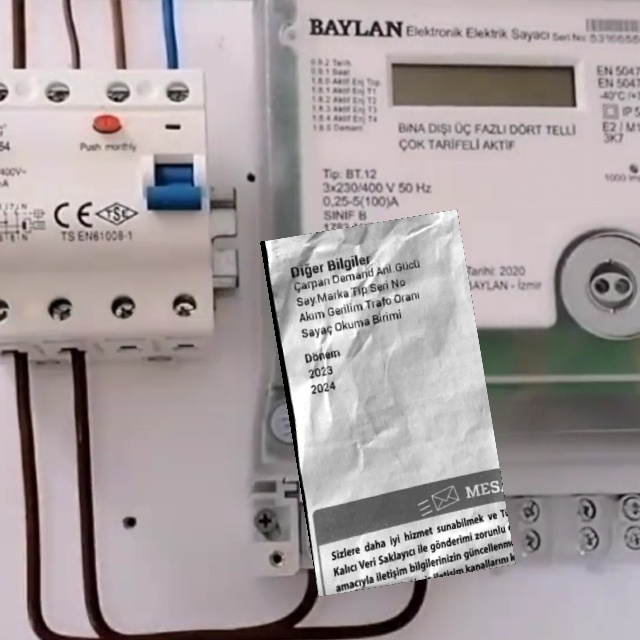electricity-bill: (260, 208, 516, 596)
